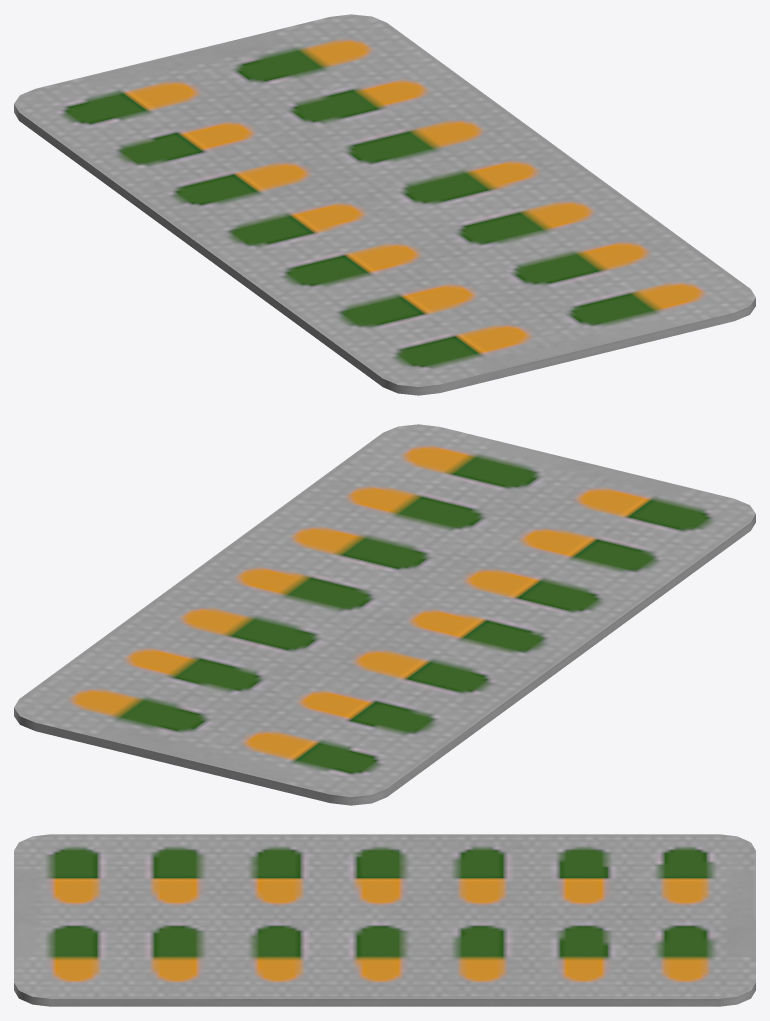
File: HH_Blister_Pack_04.fbx
3 views of the same model, one above another, from view 1: azimuth 30°, elevation 25°; view 2: azimuth 150°, elevation 25°; view 3: azimuth 270°, elevation 25° (orthographic). The views are drawn at different scales.
Visible parts, largest first — view 1: HH_Blister_Pack_04; view 2: HH_Blister_Pack_04; view 3: HH_Blister_Pack_04.
Boxes of the visible parts, x1=… form: HH_Blister_Pack_04: x1=14, y1=14, x2=755, y2=395; HH_Blister_Pack_04: x1=14, y1=424, x2=755, y2=805; HH_Blister_Pack_04: x1=14, y1=834, x2=755, y2=1006.
Bounding box in the file's own units: 8.02 × 0.1786 × 15.26.
